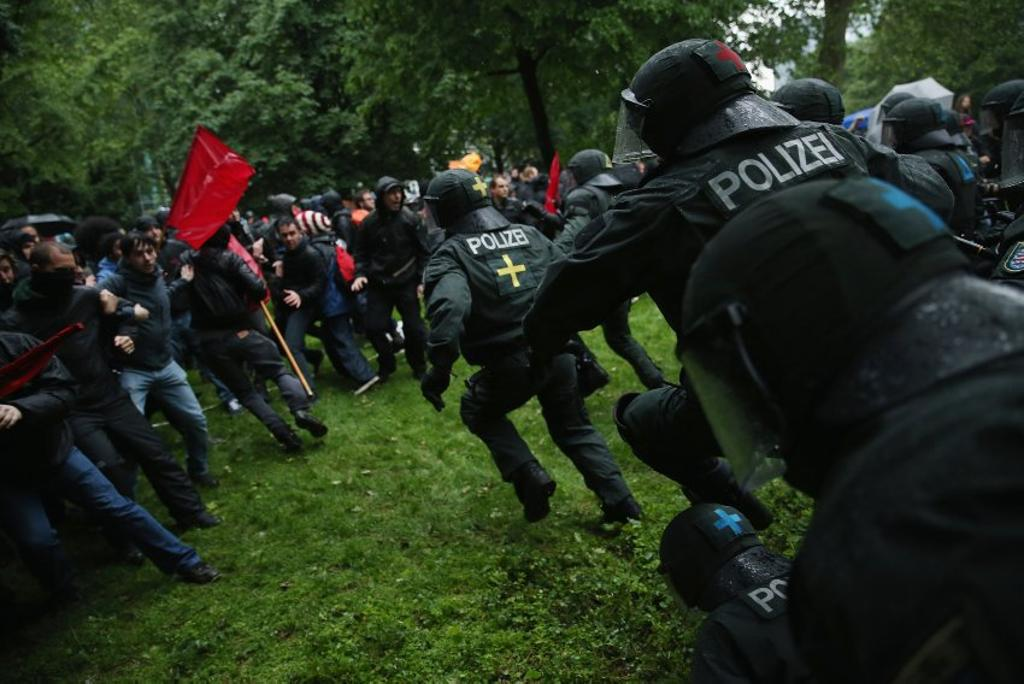face: (43, 255, 77, 298), (131, 246, 158, 274), (20, 227, 40, 252), (385, 187, 402, 213), (280, 226, 299, 248), (1, 258, 14, 290), (144, 225, 163, 244), (494, 177, 508, 199), (284, 199, 297, 220), (361, 193, 377, 210), (112, 243, 127, 260), (339, 196, 353, 213), (23, 244, 37, 260), (962, 124, 973, 138), (961, 97, 970, 110), (531, 171, 538, 182)
